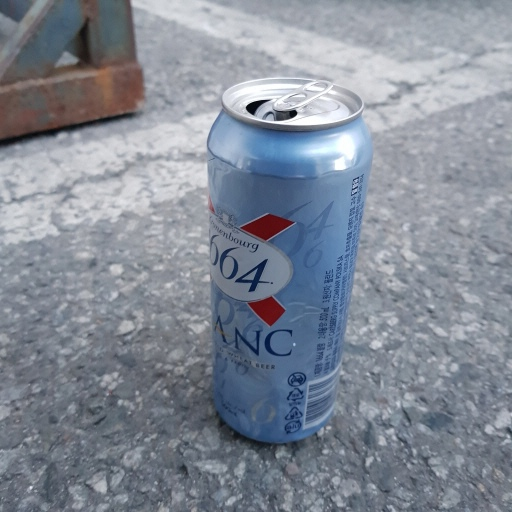Metal_0: (203, 74, 375, 449)
